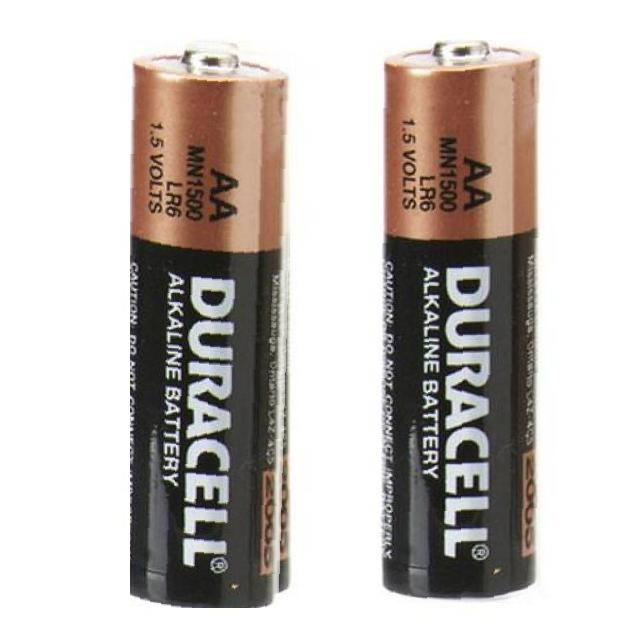battery: (380, 40, 548, 606), (130, 35, 295, 608)
